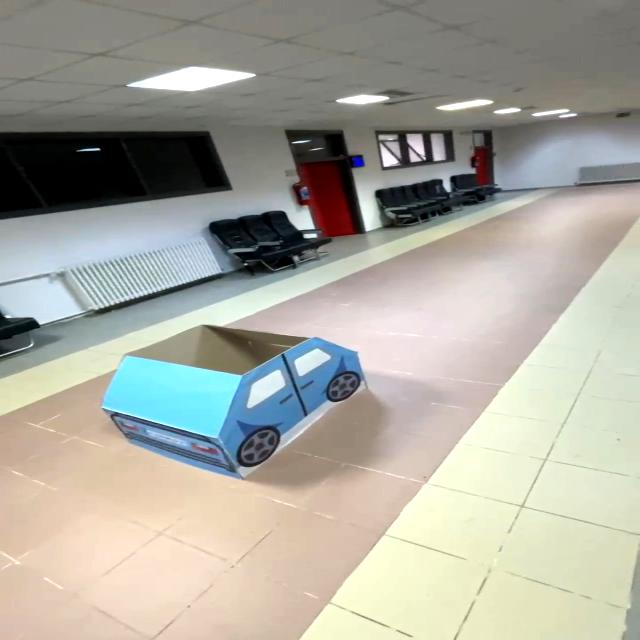blue_car: (87, 310, 374, 491)
